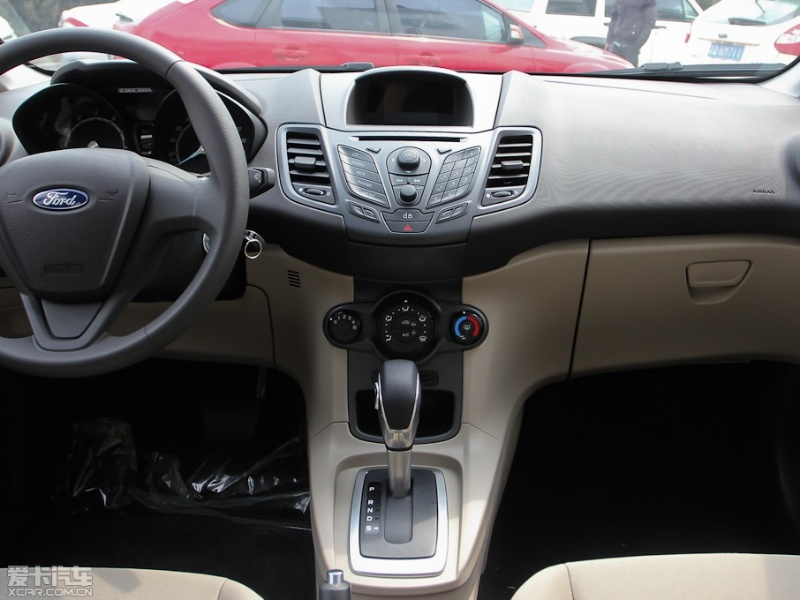control_center: (262, 66, 549, 360)
gear_lever: (316, 343, 449, 600)
odometer: (29, 59, 252, 170)
steering_wheel: (1, 15, 259, 363)
